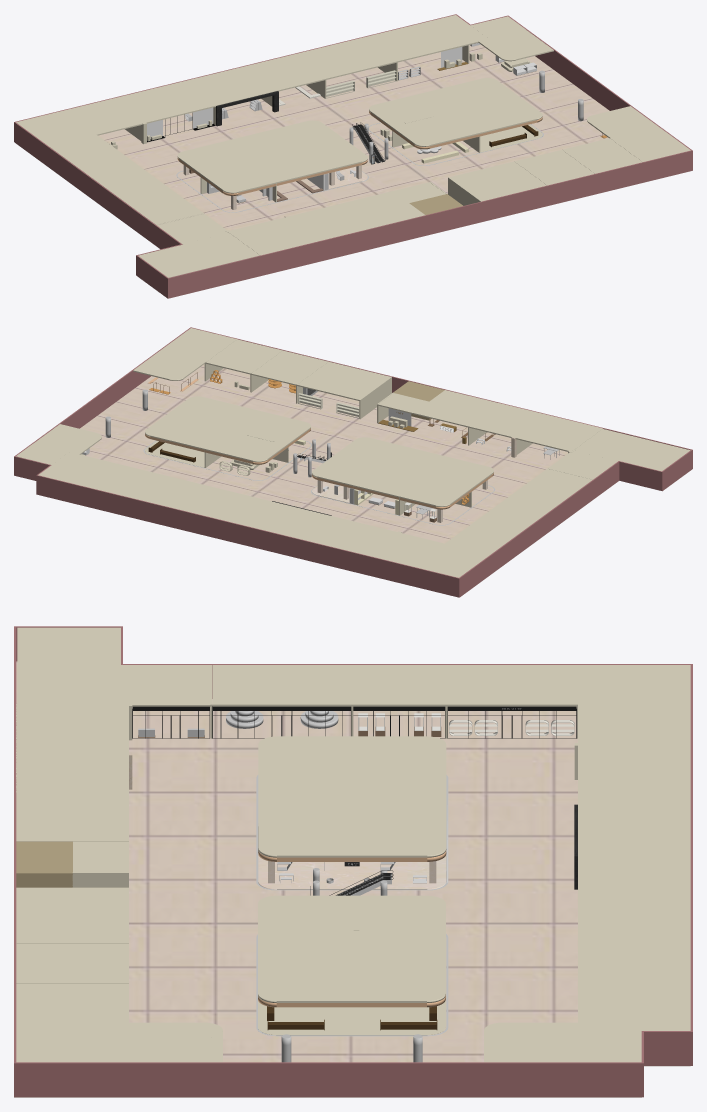
The model's file is mall_without_glass.dae.
The picture shows the model from 3 angles, top to bottom: view 1: azimuth 30°, elevation 25°; view 2: azimuth 150°, elevation 25°; view 3: azimuth 270°, elevation 25°; orthographic projection. The views are drawn at different scales.
Parts seen in each view (by area): view 1: doorwayShop4_roof_002, doorwayShop4_roof_047, doorwayShop4_roof_035, doorwayShop4_roof_003, doorwayShop4_roof_039, doorwayShop4_roof_012, doorwayShop4_roof_001, doorwayShop4_roof_030, doorwayShop4_roof_038, doorwayShop4_roof_041, doorwayShop4_roof_043; view 2: doorwayShop4_roof_002, doorwayShop4_roof_047, doorwayShop4_roof_035, doorwayShop4_roof_003, doorwayShop4_roof_030, doorwayShop4_roof_001, doorwayShop4_roof_038, doorwayShop4_roof_012, doorwayShop4_roof_041; view 3: doorwayShop4_roof_002, doorwayShop4_roof_047, doorwayShop4_roof_035, doorwayShop4_roof_001, doorwayShop4_roof_031, doorwayShop4_roof_030, doorwayShop4_roof_003, doorwayShop4_roof_041, doorwayShop4_roof_011, doorwayShop4_roof_007, doorwayShop4_roof_038.
Part boxes in pixels (x1,y1,x2,y2): doorwayShop4_roof_002: [16, 15, 690, 277]; doorwayShop4_roof_047: [24, 44, 688, 298]; doorwayShop4_roof_035: [14, 14, 692, 298]; doorwayShop4_roof_003: [177, 111, 542, 195]; doorwayShop4_roof_039: [147, 47, 462, 138]; doorwayShop4_roof_012: [326, 70, 396, 98]; doorwayShop4_roof_001: [183, 165, 367, 209]; doorwayShop4_roof_030: [409, 194, 462, 214]; doorwayShop4_roof_038: [349, 70, 583, 163]; doorwayShop4_roof_041: [176, 122, 543, 212]; doorwayShop4_roof_043: [216, 91, 278, 126]; doorwayShop4_roof_002: [16, 328, 690, 577]; doorwayShop4_roof_047: [80, 364, 690, 590]; doorwayShop4_roof_035: [14, 327, 692, 597]; doorwayShop4_roof_003: [145, 428, 493, 509]; doorwayShop4_roof_030: [393, 381, 444, 420]; doorwayShop4_roof_001: [312, 480, 487, 522]; doorwayShop4_roof_038: [105, 389, 330, 477]; doorwayShop4_roof_012: [298, 393, 359, 418]; doorwayShop4_roof_041: [143, 439, 495, 525]; doorwayShop4_roof_002: [16, 627, 690, 1062]; doorwayShop4_roof_047: [14, 661, 690, 1097]; doorwayShop4_roof_035: [14, 626, 692, 1097]; doorwayShop4_roof_001: [258, 855, 446, 889]; doorwayShop4_roof_031: [132, 706, 576, 895]; doorwayShop4_roof_030: [16, 841, 72, 887]; doorwayShop4_roof_003: [258, 850, 446, 1007]; doorwayShop4_roof_041: [256, 775, 448, 1036]; doorwayShop4_roof_011: [449, 720, 574, 735]; doorwayShop4_roof_007: [267, 1006, 437, 1030]; doorwayShop4_roof_038: [281, 868, 422, 1062].
Size of the model in its own units: 110 by 72.24 by 4.39.
Materials: 50 (5 with a texture image).
